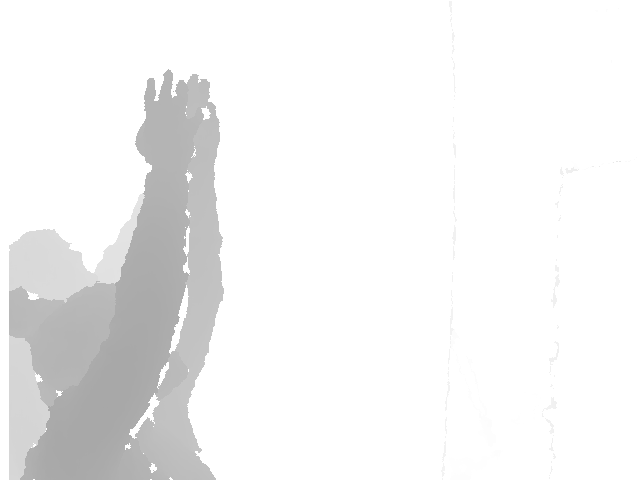hand: (135, 70, 203, 171), (170, 76, 219, 178)
head: (28, 281, 188, 429), (6, 227, 93, 309)
person: (9, 71, 226, 480), (7, 190, 148, 480)
